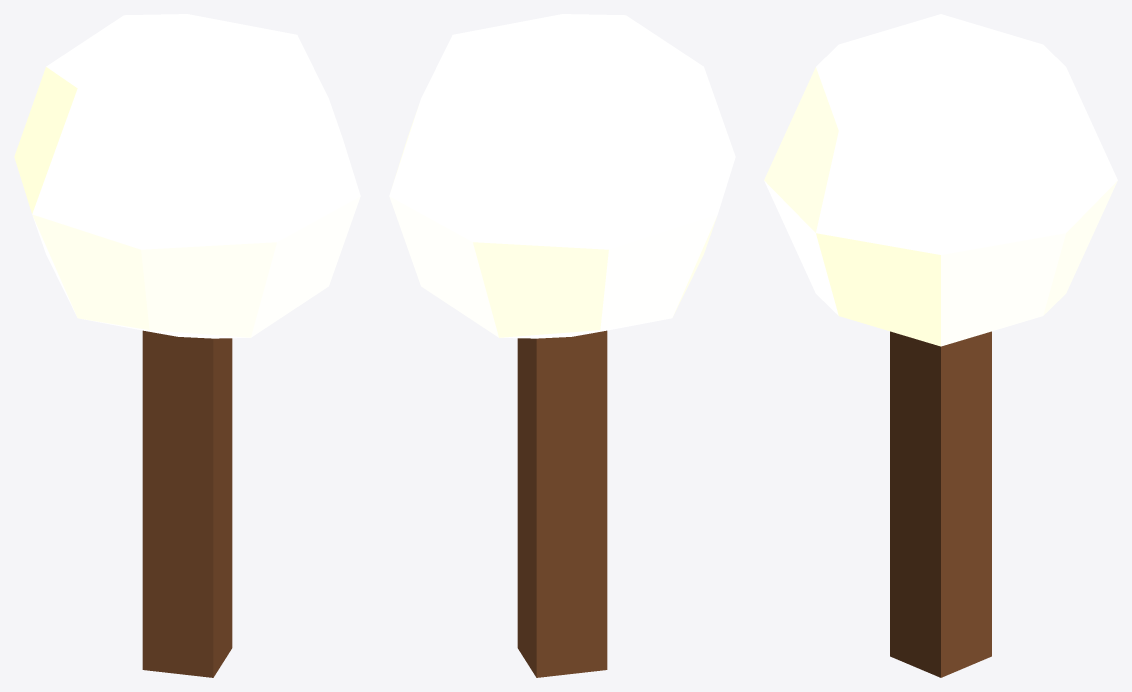
The model's file is luz_estaca_natal_jardim_pacote.glb.
3 views of the same model, side by side, from view 1: azimuth 30°, elevation 25°; view 2: azimuth 150°, elevation 25°; view 3: azimuth 270°, elevation 25° (orthographic).
Parts seen in each view (by area): view 1: luz_estaca_natal_jardim_pacote; view 2: luz_estaca_natal_jardim_pacote; view 3: luz_estaca_natal_jardim_pacote.
Boxes of the visible parts, bbox=[...] form: luz_estaca_natal_jardim_pacote: bbox=[14, 14, 360, 677]; luz_estaca_natal_jardim_pacote: bbox=[389, 14, 735, 677]; luz_estaca_natal_jardim_pacote: bbox=[764, 14, 1117, 677].
Size of the model in its own units: 0.1586 by 0.3147 by 0.1586.
2 materials, 1 textured.
